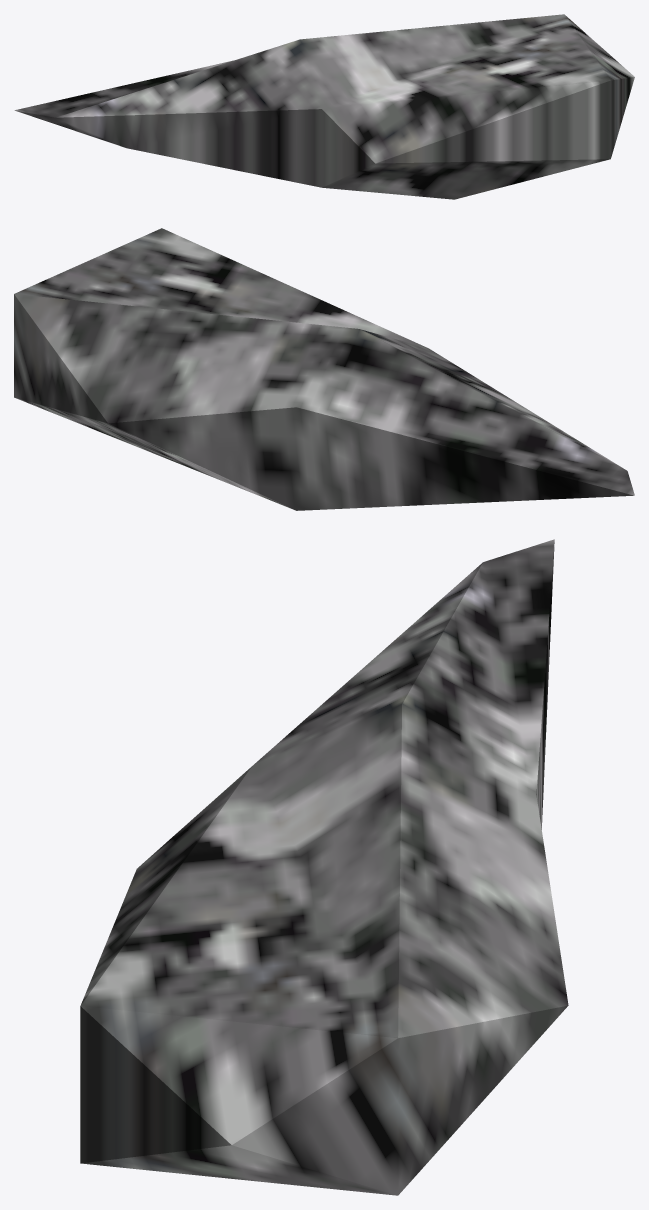
Rendered from Civilian - Civilian Building - Bridg D 05 - CBBridgD05.glb.
3 renders of one model, top to bottom at view 1: azimuth 30°, elevation 25°; view 2: azimuth 150°, elevation 25°; view 3: azimuth 270°, elevation 25°, orthographic. The views are drawn at different scales.
Parts seen in each view (by area): view 1: CBBRIDGD05; view 2: CBBRIDGD05; view 3: CBBRIDGD05.
Boxes of the visible parts, box(x1,y1,x2,y2) form: CBBRIDGD05: box(14, 14, 634, 199); CBBRIDGD05: box(14, 228, 634, 510); CBBRIDGD05: box(80, 539, 568, 1195).
Bounding box in the file's own units: 36.91 × 10.47 × 14.44.
Materials: 1 (1 with a texture image).
